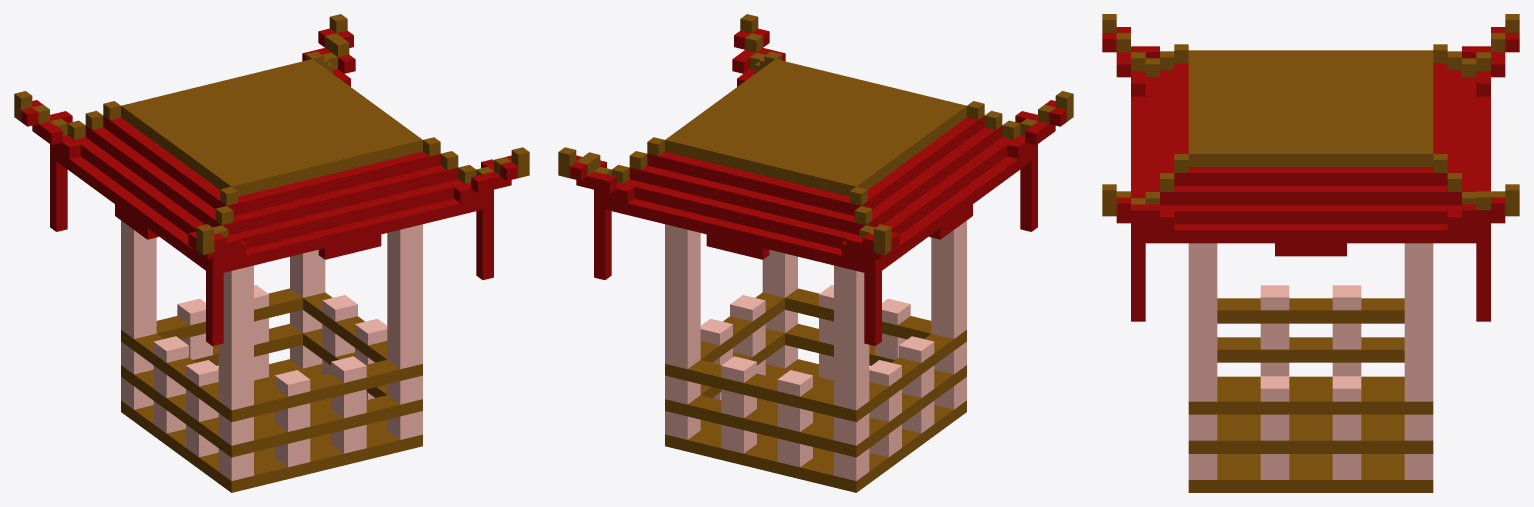
Rendered from TwentyNineModel.fbx.
3 views of the same model, side by side, from view 1: azimuth 30°, elevation 25°; view 2: azimuth 150°, elevation 25°; view 3: azimuth 270°, elevation 25° (orthographic). The views are drawn at different scales.
Parts seen in each view (by area): view 1: Box; view 2: Box; view 3: Box.
Boxes of the visible parts, x1=… form: Box: x1=14, y1=14, x2=529, y2=492; Box: x1=558, y1=14, x2=1073, y2=492; Box: x1=1102, y1=14, x2=1519, y2=492.
Size of the model in its own units: 29 by 26 by 29.
Materials: 1 (1 with a texture image).
